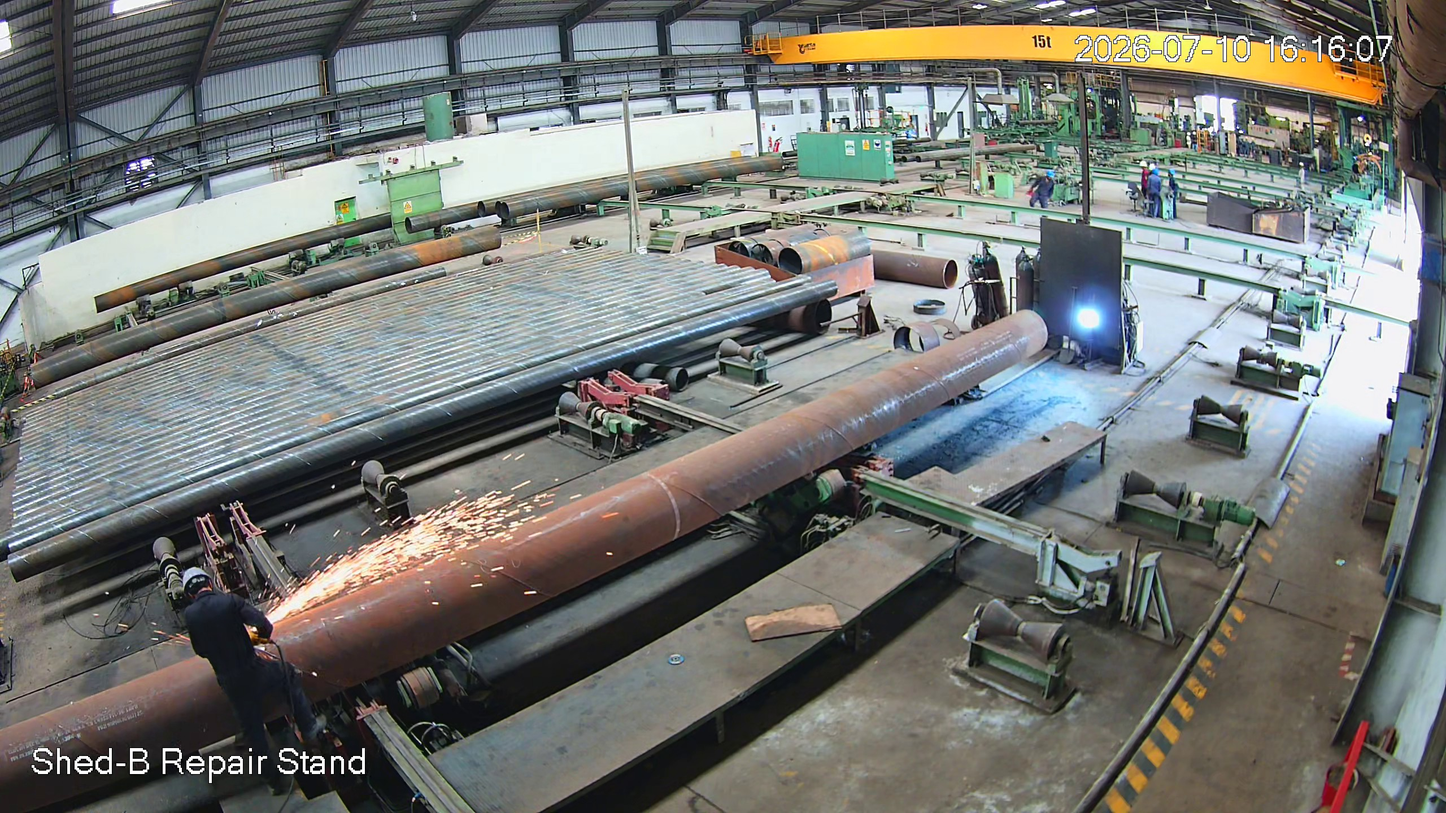Helmet: (176, 563, 237, 617), (1045, 169, 1058, 185), (1139, 158, 1149, 171), (1151, 167, 1160, 181), (1167, 167, 1176, 180)
Person: (181, 564, 326, 807), (1031, 172, 1057, 212), (1167, 168, 1182, 221), (1148, 169, 1162, 221), (1138, 159, 1150, 200)
